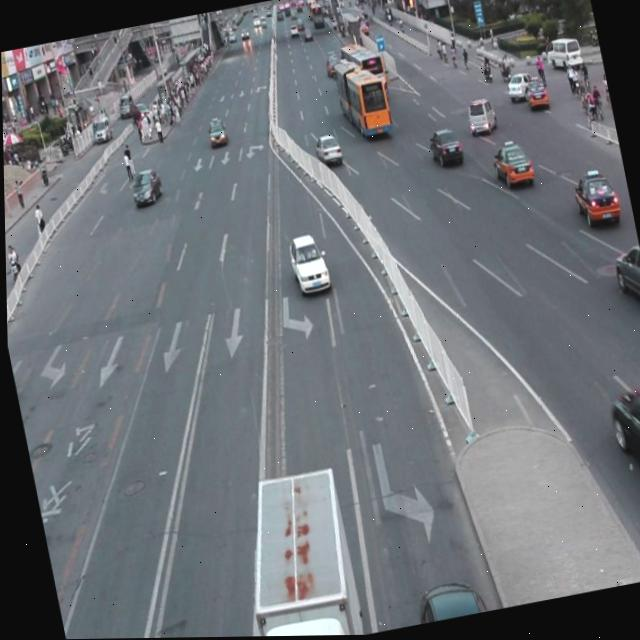bus: (225, 461, 363, 637)
car: (603, 383, 640, 519), (409, 573, 486, 625), (283, 232, 330, 297), (568, 171, 617, 226), (607, 245, 640, 318), (488, 140, 533, 190), (424, 127, 463, 170)
